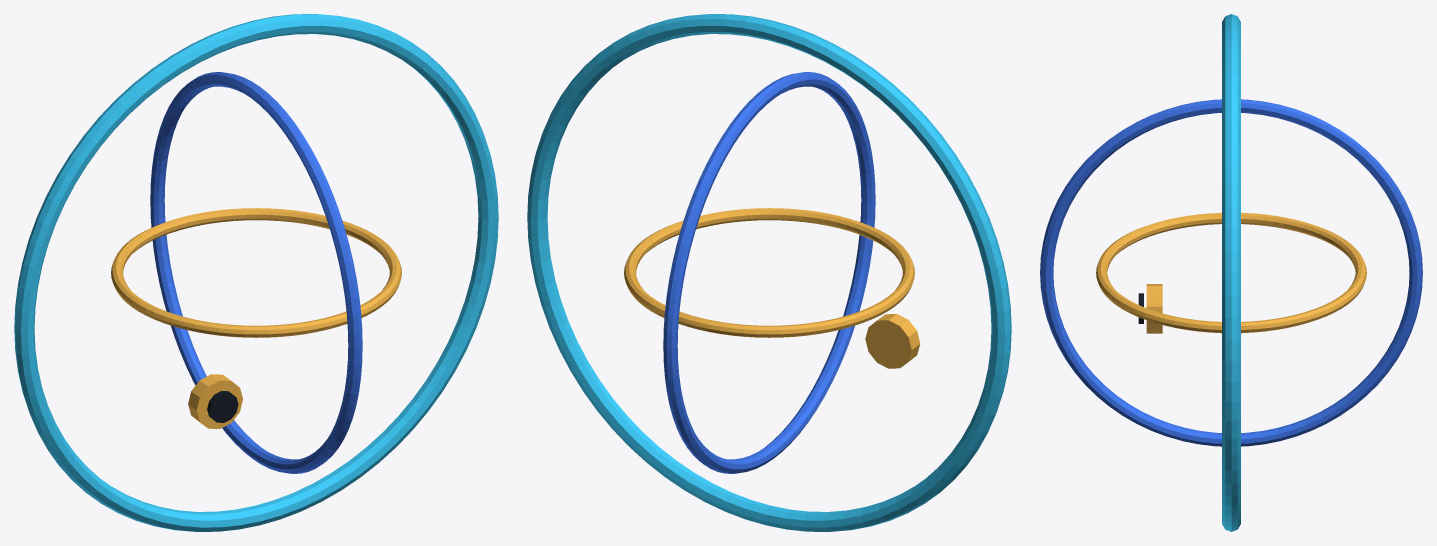
Rendered from 16_L84_SpacecraftBodyAxesHologram.fbx.
3 views of the same model, side by side, from view 1: azimuth 30°, elevation 25°; view 2: azimuth 150°, elevation 25°; view 3: azimuth 270°, elevation 25° (orthographic). The views are drawn at different scales.
Visible parts, largest first — view 1: L84_SpacecraftBodyAxesHologram, L84_SpacecraftBodyAxesHologram_Part_0003, L84_SpacecraftBodyAxesHologram_Part_0004; view 2: L84_SpacecraftBodyAxesHologram, L84_SpacecraftBodyAxesHologram_Part_0003; view 3: L84_SpacecraftBodyAxesHologram, L84_SpacecraftBodyAxesHologram_Part_0003.
Part boxes in pixels (x1,y1,x2,y2): L84_SpacecraftBodyAxesHologram: (14,14,498,531); L84_SpacecraftBodyAxesHologram_Part_0003: (188,374,242,428); L84_SpacecraftBodyAxesHologram_Part_0004: (207,391,238,422); L84_SpacecraftBodyAxesHologram: (527,14,1011,531); L84_SpacecraftBodyAxesHologram_Part_0003: (865,314,920,368); L84_SpacecraftBodyAxesHologram: (1040,14,1422,531); L84_SpacecraftBodyAxesHologram_Part_0003: (1146,284,1162,333).
Size of the model in its own units: 135 by 135 by 99.8.
